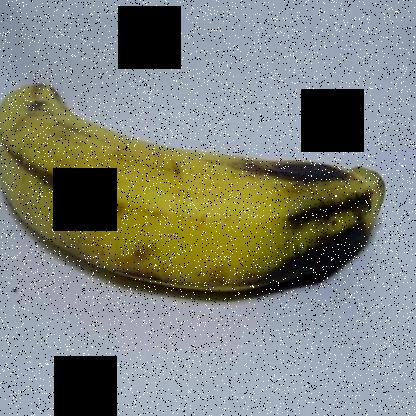ripe: (1, 59, 396, 311)
